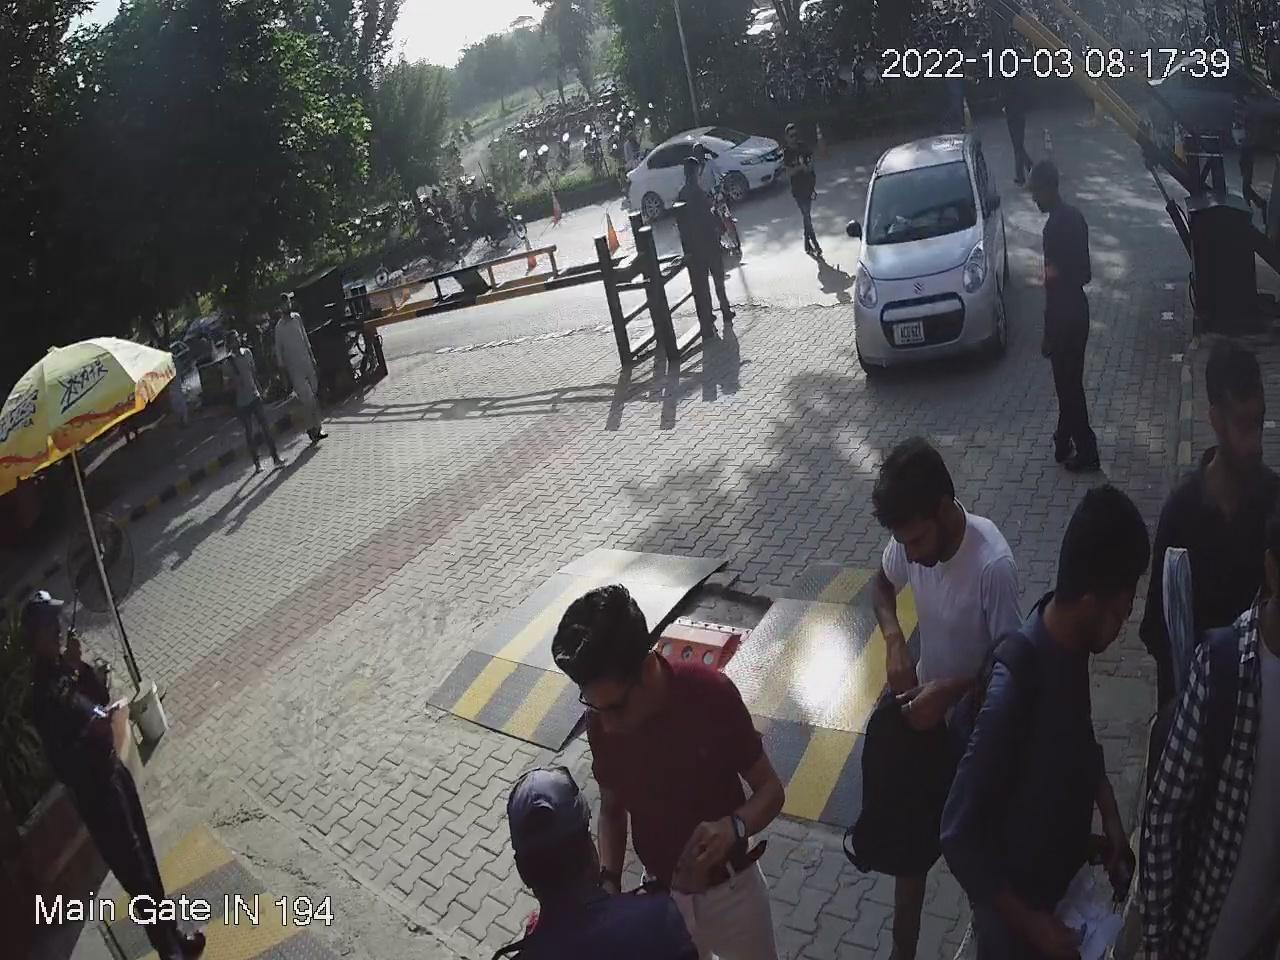windshield: (871, 147, 981, 242)
